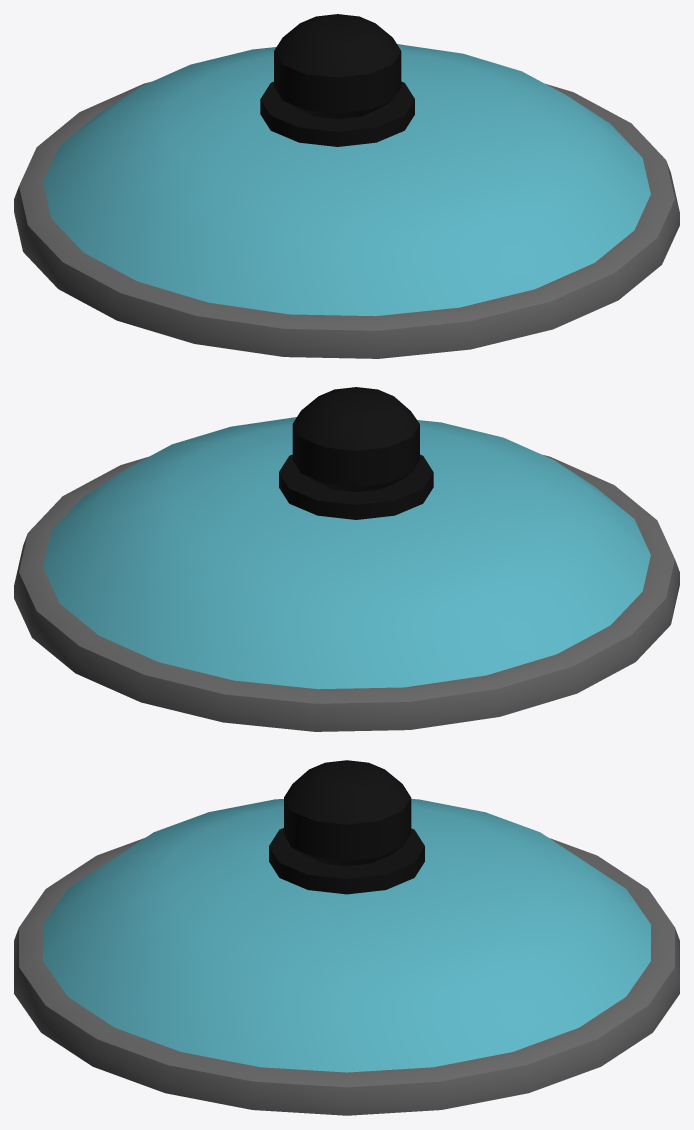
File: SM_pot_lid_02.fbx
The picture shows the model from 3 angles, top to bottom: view 1: azimuth 30°, elevation 25°; view 2: azimuth 150°, elevation 25°; view 3: azimuth 270°, elevation 25°; orthographic projection.
Visible parts, largest first — view 1: Cylinder015; view 2: Cylinder015; view 3: Cylinder015.
Boxes of the visible parts, x1,y1,x2,y2 form: Cylinder015: (14, 14, 679, 358); Cylinder015: (14, 387, 679, 731); Cylinder015: (14, 760, 679, 1115).
Bounding box in the file's own units: 24.78 × 7.95 × 24.53.
